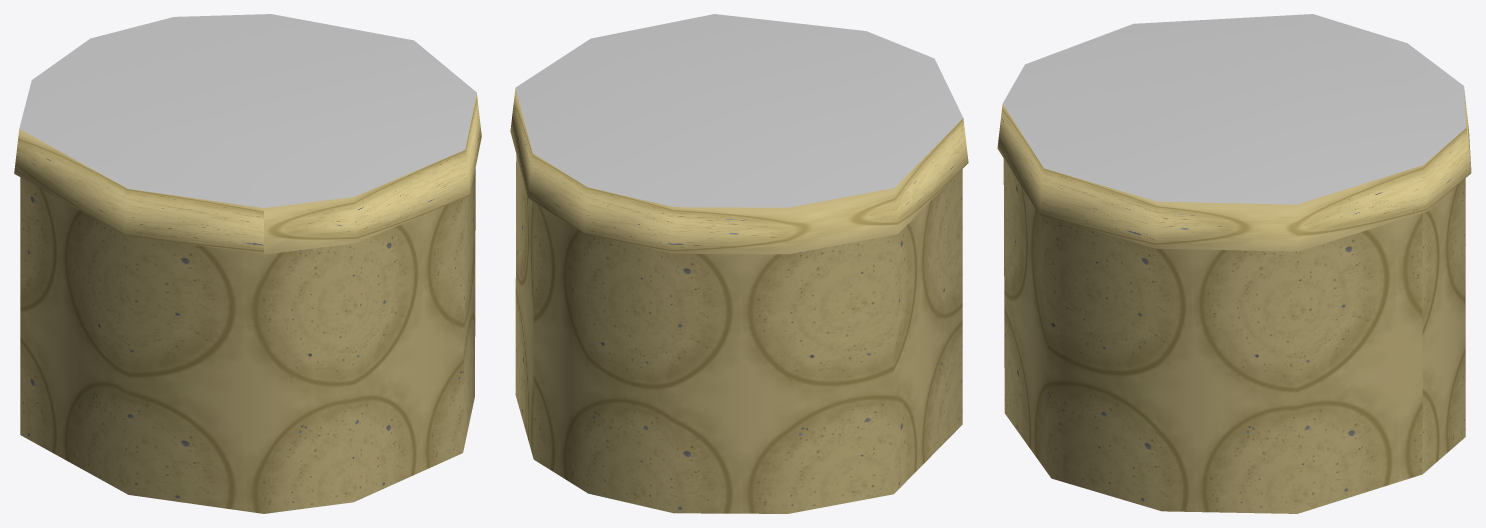
File: circle island.fbx
3 views of the same model, side by side, from view 1: azimuth 30°, elevation 25°; view 2: azimuth 150°, elevation 25°; view 3: azimuth 270°, elevation 25° (orthographic).
Visible parts, largest first — view 1: polySurface72; view 2: polySurface72; view 3: polySurface72.
Boxes of the visible parts, x1,y1,x2,y2 form: polySurface72: (14, 14, 481, 513); polySurface72: (510, 14, 968, 513); polySurface72: (997, 14, 1471, 513).
Size of the model in its own units: 0.0931 by 0.0689 by 0.0956.
